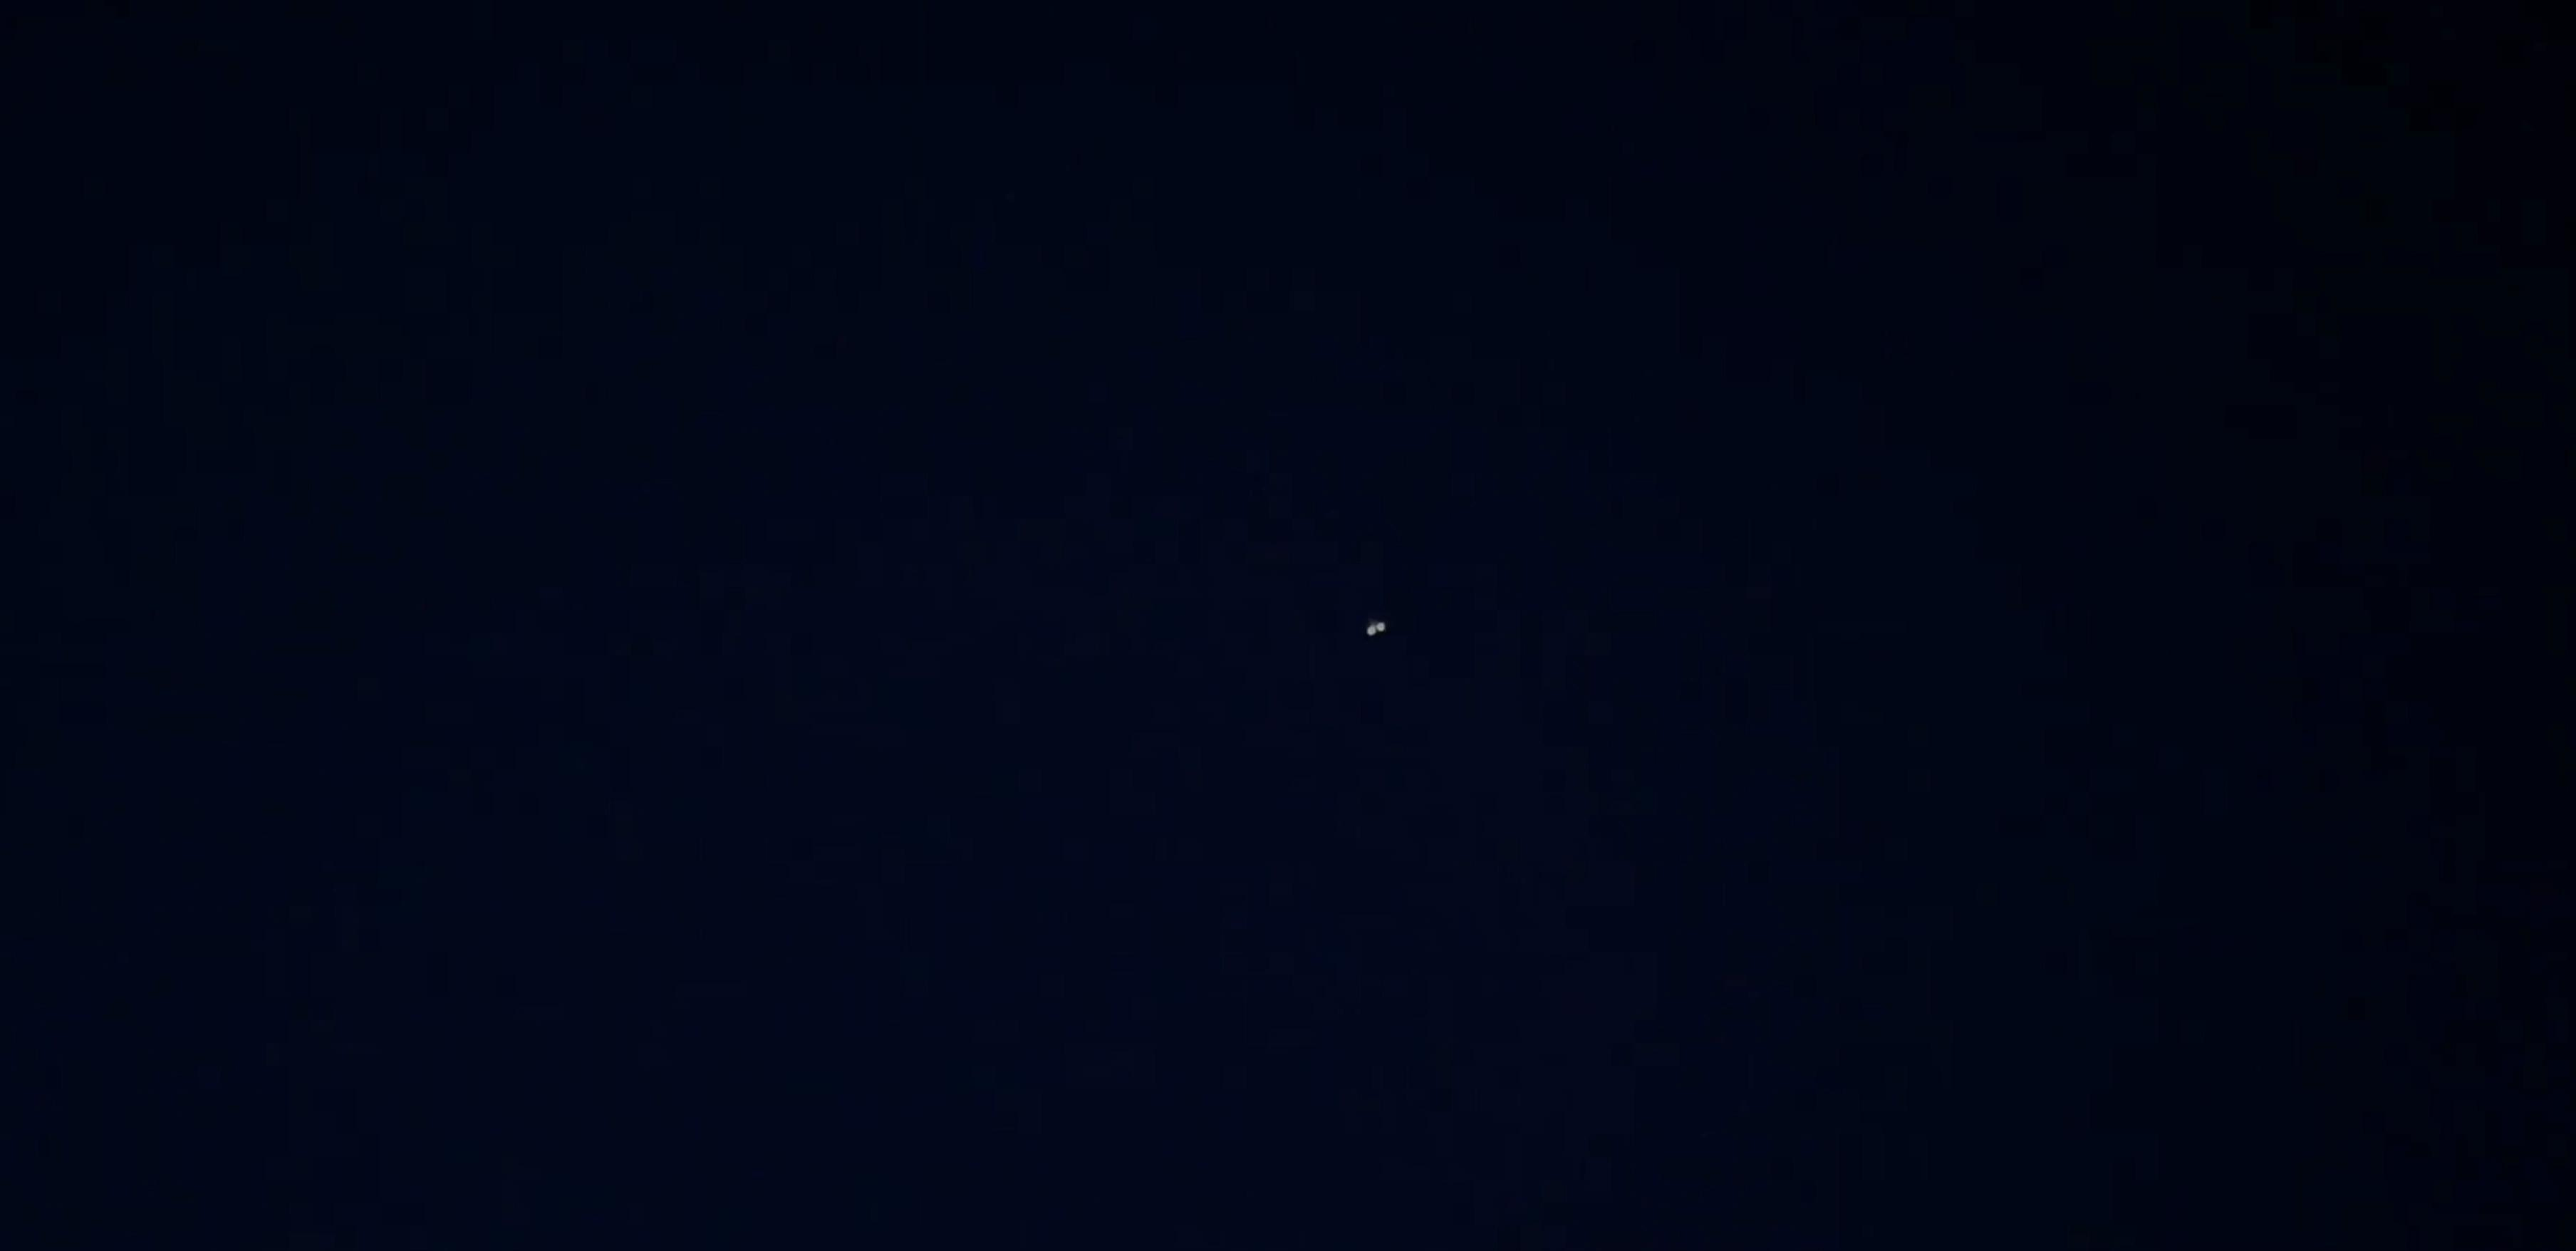Plane: (1350, 603, 1408, 654)
